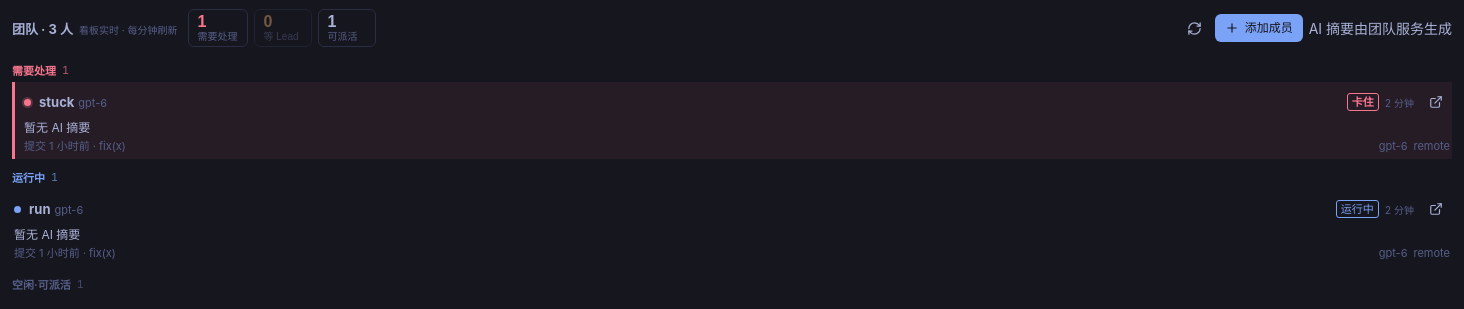
Test: filters the merged list by the overview counts and clears on a second click
This screenshot has width=1464, height=309.
Expected: the element named "需要处理成员" is shown, [12,58,1452,159]
Expected: the element named "运行中成员" is shown, [12,165,1452,266]
Click the button "1 需要处理" at (218,28), box [188,9,248,47]
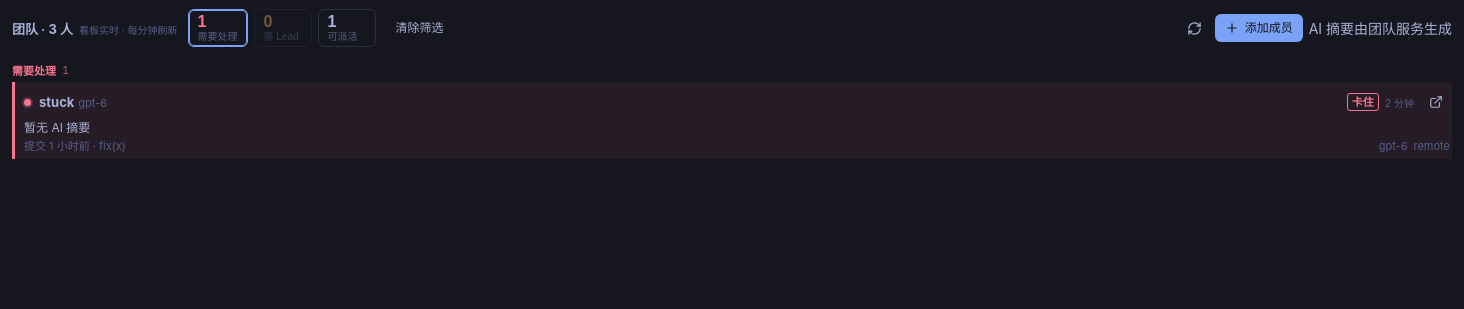
Expected: the element named "需要处理成员" is shown, [12,58,1452,159]
Expected: the element "运行中成员" is gone
Expected: the element "空闲·可派活成员" is gone
Click the button "1 需要处理" at (218,28), box [188,9,248,47]
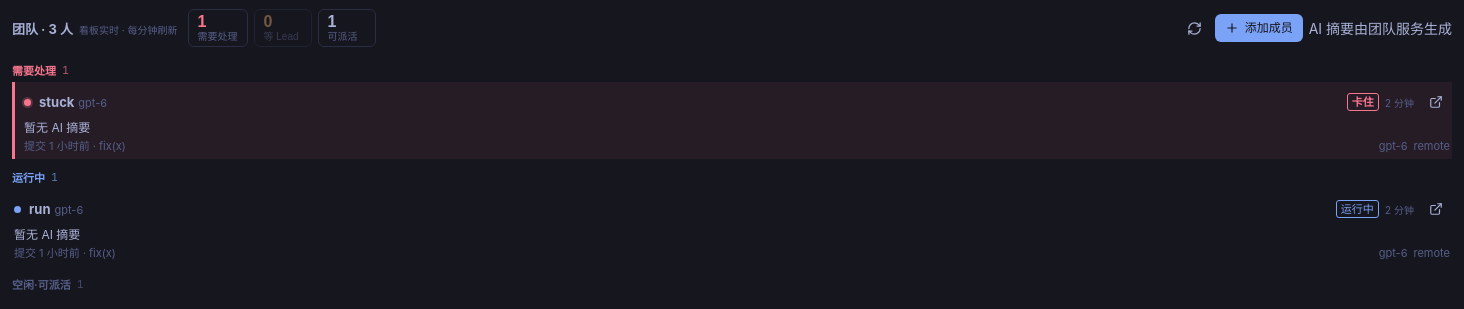
Expected: the element named "运行中成员" is shown, [12,165,1452,266]
